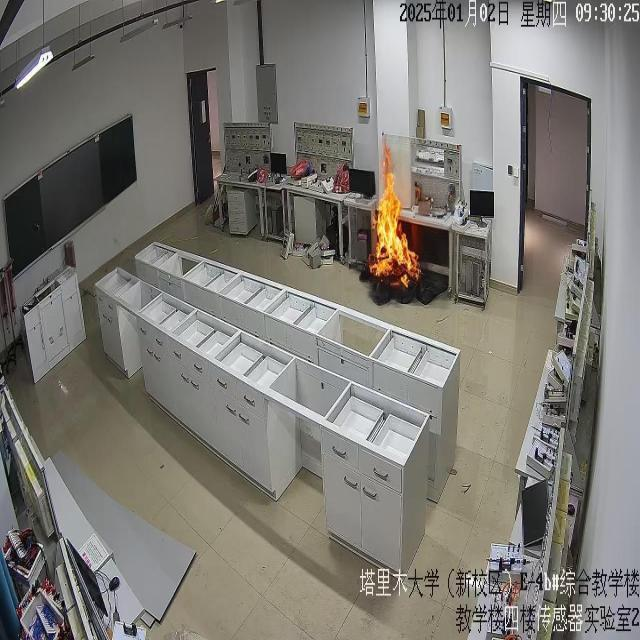smoke: (367, 140, 419, 288)
